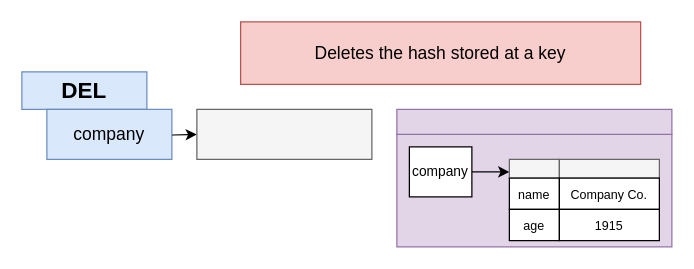
Image size: 694x269. Some labels were removed from this diagram. Here are the shapes that lost their labels. From the top down, the centre of each, then its label:
At point (284, 133): "Hash to delete".
At point (534, 121): "Redis".
At point (533, 168): "key".
At point (608, 168): "value".
